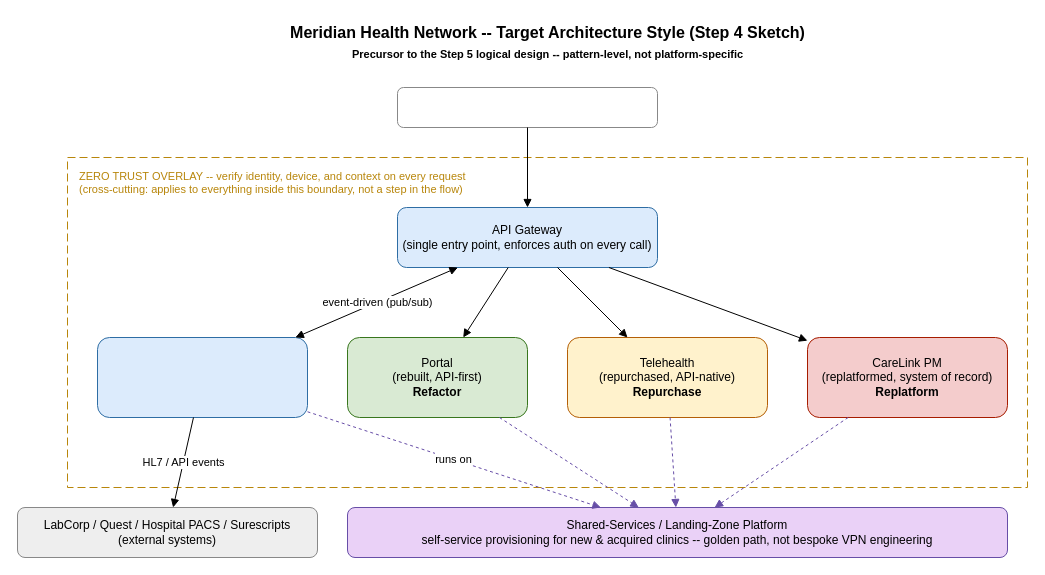
Image size: 1045x575. Some labels were removed from this diagram. The centre of each missing label's shape, as x and y in pixels:
"Integration Bus (event-driven, pub/sub -- replaces LinkEngine)" belongs at point 202,377.
"Patients / Referring Providers" belongs at point 527,107.
